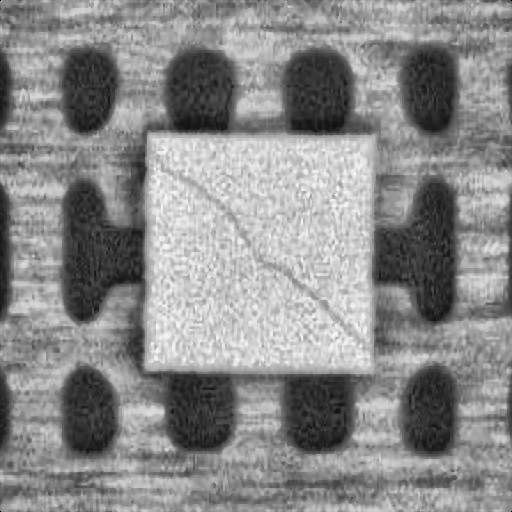DIE_CRACK: (145, 146, 356, 339)
